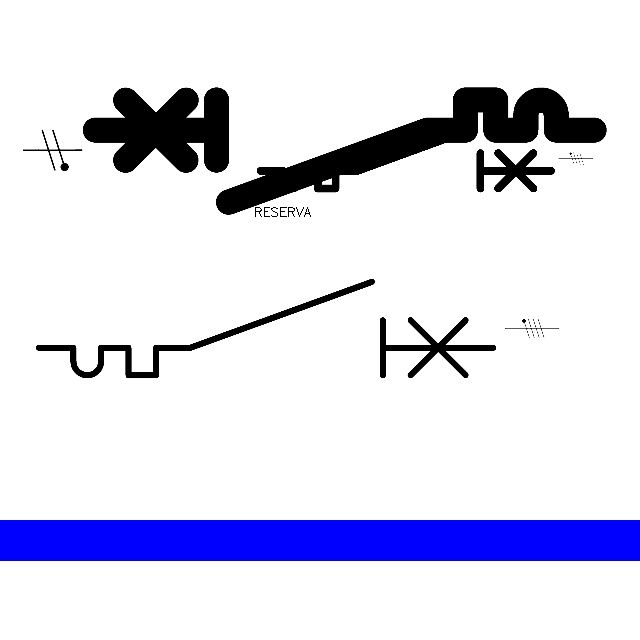interruptor_termomagnetico: (82, 87, 606, 215), (27, 270, 505, 387), (253, 121, 558, 196)
